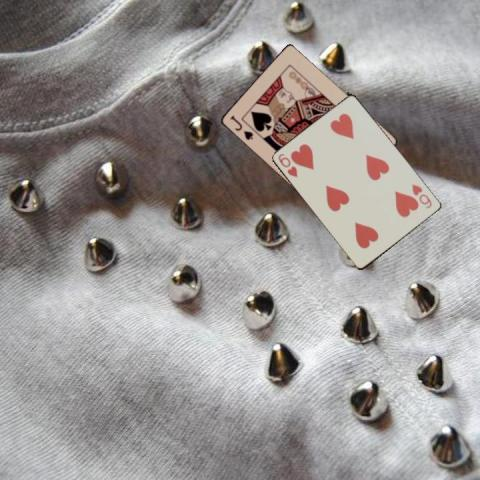6h: (410, 181, 434, 210), (276, 150, 300, 178)
Js: (227, 112, 254, 141)
